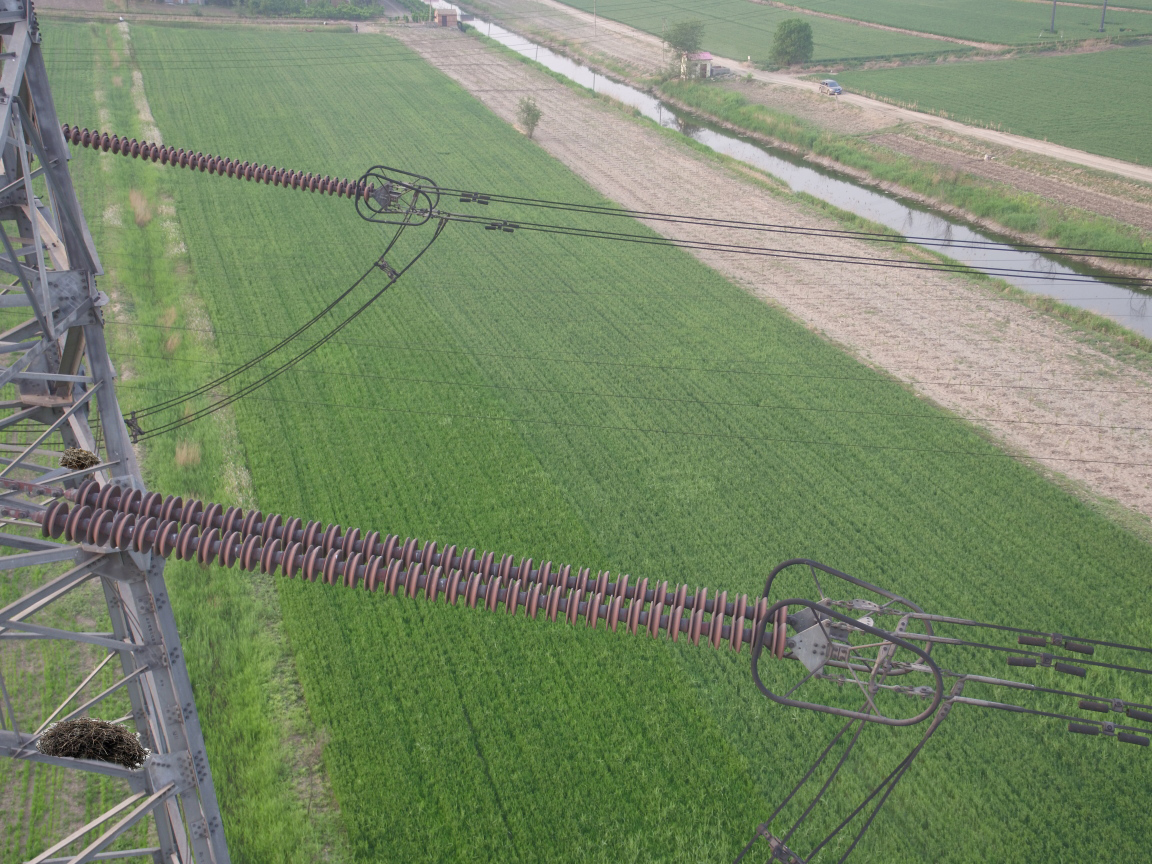nest: (27, 713, 149, 773), (57, 444, 103, 469)
